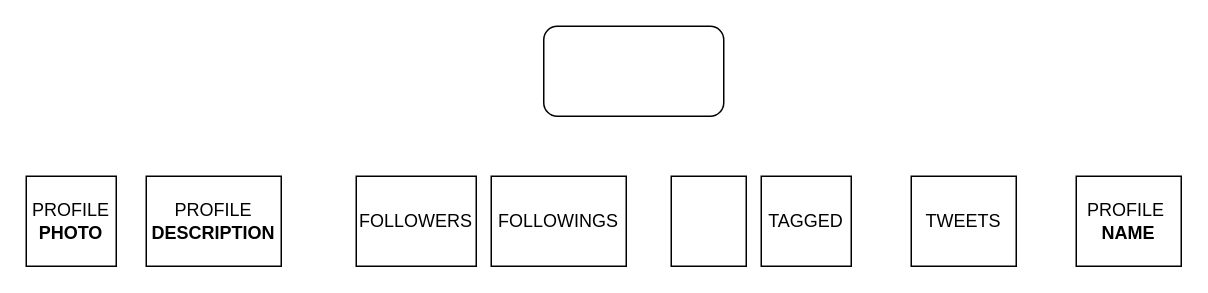
This 1208x293 diagram has some shape labels left out. Each missing label, with the centre of its shape:
"POST" belongs at point 708,220.
"SOCIAL MEDIA" belongs at point 633,70.
